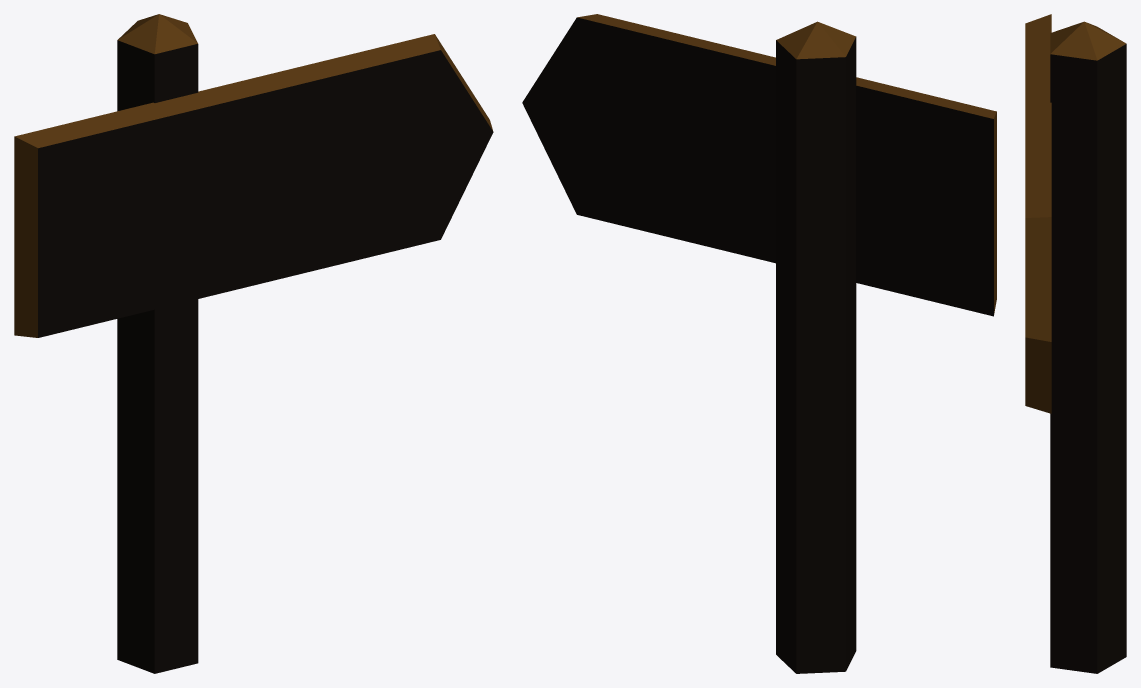
File: Signpost_1.fbx
3 renders of one model, left to right at view 1: azimuth 30°, elevation 25°; view 2: azimuth 150°, elevation 25°; view 3: azimuth 270°, elevation 25°, orthographic.
Parts seen in each view (by area): view 1: Signpost_1; view 2: Signpost_1; view 3: Signpost_1.
Part boxes in pixels (bbox=[...]): Signpost_1: bbox=[14, 14, 493, 673]; Signpost_1: bbox=[522, 14, 996, 673]; Signpost_1: bbox=[1025, 14, 1126, 673].
Size of the model in its own units: 168 by 216 by 31.29.
